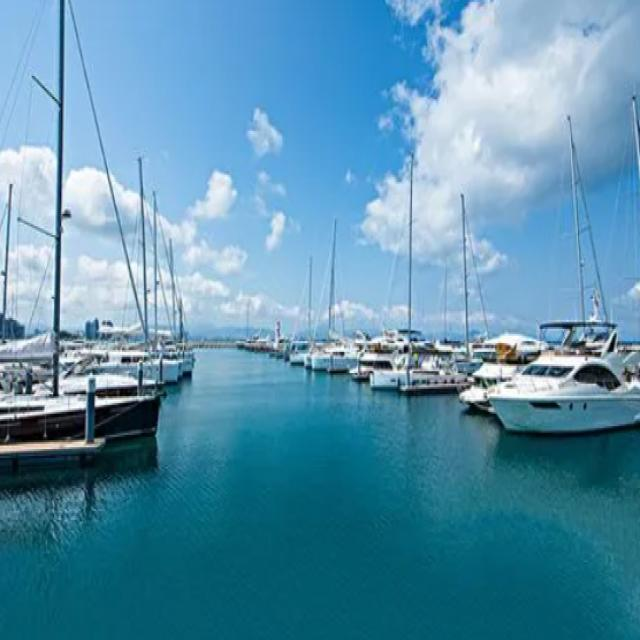houseboat: (487, 308, 640, 437), (458, 342, 532, 412), (350, 332, 414, 382)
